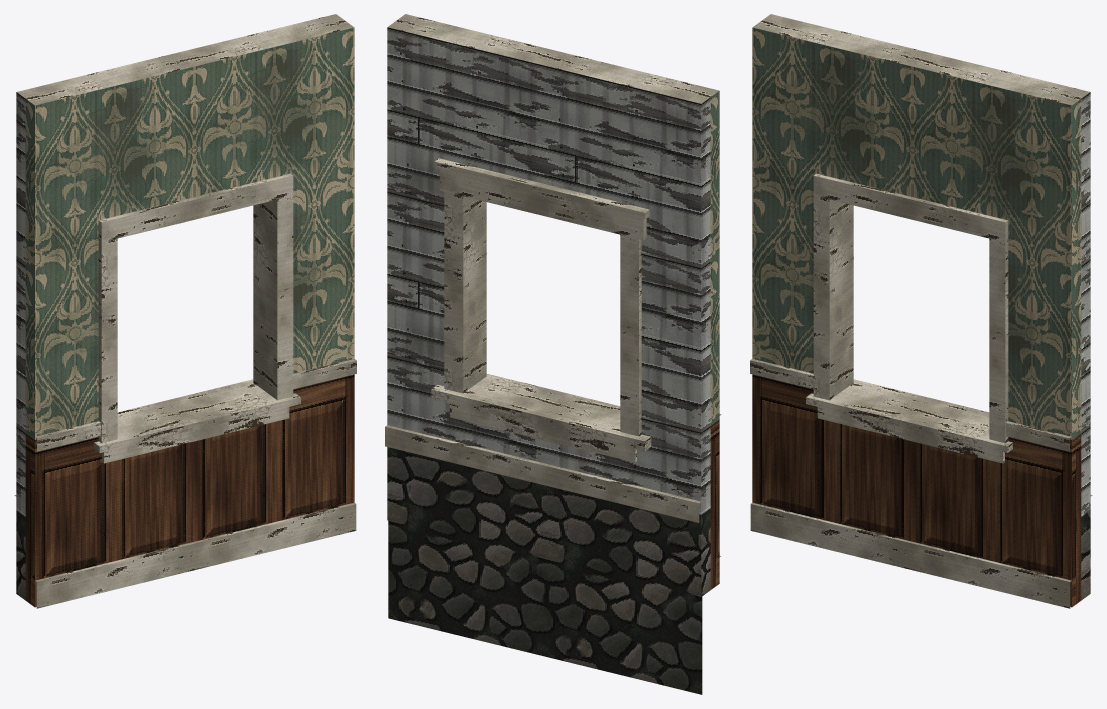
File: house_wall_ext_window.glb
The picture shows the model from 3 angles, left to right: view 1: azimuth 30°, elevation 25°; view 2: azimuth 150°, elevation 25°; view 3: azimuth 330°, elevation 25°; orthographic projection.
Visible parts, largest first — view 1: house_wall_ext_window; view 2: house_wall_ext_window; view 3: house_wall_ext_window.
Part boxes in pixels (x1,y1,x2,y2): house_wall_ext_window: [14, 14, 356, 608]; house_wall_ext_window: [385, 14, 721, 694]; house_wall_ext_window: [750, 14, 1092, 608].
Size of the model in its own units: 2 by 3.6 by 0.33.
Materials: 5 (5 with a texture image).
